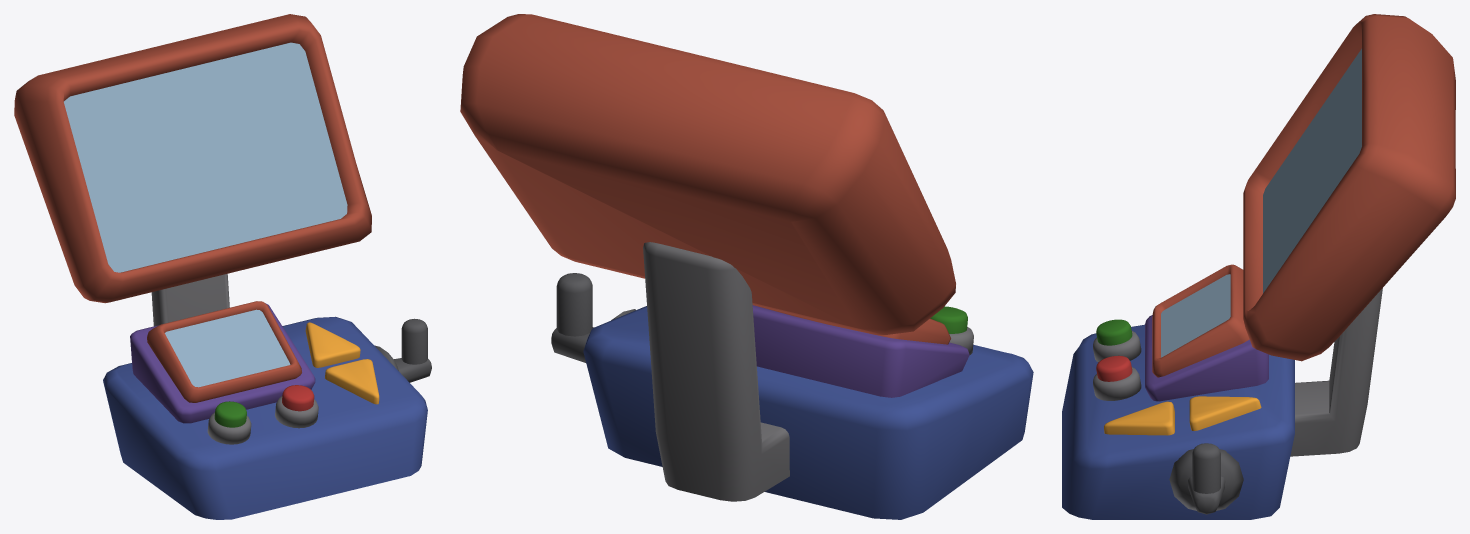
Rendered from cashRegister.fbx.
3 renders of one model, left to right at view 1: azimuth 30°, elevation 25°; view 2: azimuth 150°, elevation 25°; view 3: azimuth 270°, elevation 25°, orthographic. The views are drawn at different scales.
Parts seen in each view (by area): view 1: changeScreenBottom.002, body, changeScreenBottom, body.001, handle, okUst, okUst.001, greenButton.003, greenButton.004, greenButton.001, greenButton.002; view 2: changeScreenBottom.002, body, body.001, changeScreenBottom, handle, greenButton.001; view 3: changeScreenBottom.002, body, changeScreenBottom, body.001, handle, handle2, okUst, okUst.001, greenButton.004, greenButton.003, greenButton.001, greenButton.002.
Boxes of the visible parts, x1=… form: changeScreenBottom.002: x1=14, y1=14, x2=371, y2=303; body: x1=103, y1=316, x2=427, y2=519; changeScreenBottom: x1=130, y1=301, x2=315, y2=423; body.001: x1=151, y1=273, x2=229, y2=326; handle: x1=394, y1=318, x2=431, y2=382; okUst: x1=305, y1=322, x2=360, y2=367; okUst.001: x1=325, y1=359, x2=379, y2=404; greenButton.003: x1=207, y1=412, x2=251, y2=444; greenButton.004: x1=275, y1=396, x2=318, y2=428; greenButton.001: x1=214, y1=401, x2=246, y2=427; greenButton.002: x1=282, y1=385, x2=314, y2=411; changeScreenBottom.002: x1=460, y1=14, x2=955, y2=334; body: x1=583, y1=306, x2=1033, y2=519; body.001: x1=643, y1=242, x2=789, y2=501; changeScreenBottom: x1=752, y1=305, x2=969, y2=397; handle: x1=551, y1=273, x2=593, y2=362; greenButton.001: x1=930, y1=306, x2=967, y2=333; changeScreenBottom.002: x1=1243, y1=14, x2=1455, y2=361; body: x1=1062, y1=324, x2=1294, y2=519; changeScreenBottom: x1=1145, y1=264, x2=1268, y2=401; body.001: x1=1290, y1=288, x2=1382, y2=456; handle: x1=1188, y1=443, x2=1225, y2=514; handle2: x1=1169, y1=449, x2=1243, y2=510; okUst: x1=1189, y1=396, x2=1261, y2=430; okUst.001: x1=1104, y1=401, x2=1174, y2=435; greenButton.004: x1=1093, y1=367, x2=1141, y2=400; greenButton.003: x1=1093, y1=331, x2=1141, y2=362; greenButton.001: x1=1096, y1=319, x2=1132, y2=345; greenButton.002: x1=1096, y1=355, x2=1132, y2=381.
Size of the model in its own units: 112 by 116 by 109.
